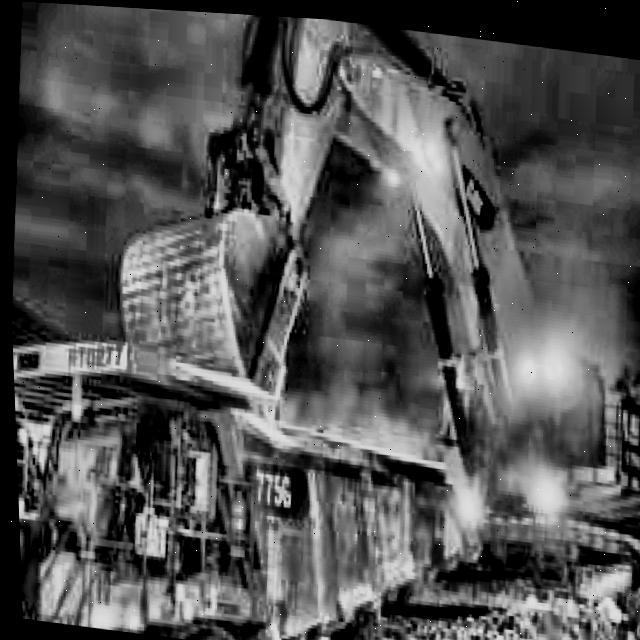dump_truck: (9, 316, 466, 640)
excavator: (91, 4, 640, 636)
